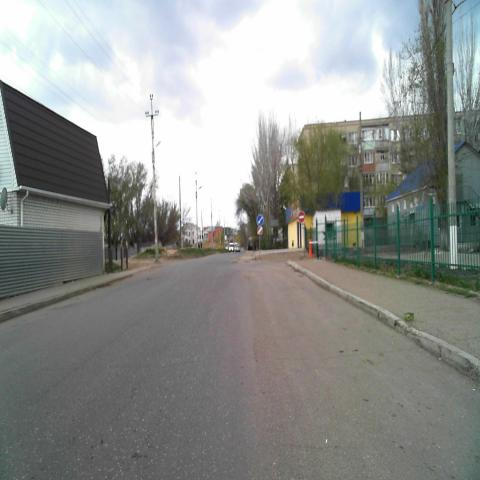3_1: (299, 210, 305, 223)
4_2_2: (256, 213, 264, 226)
